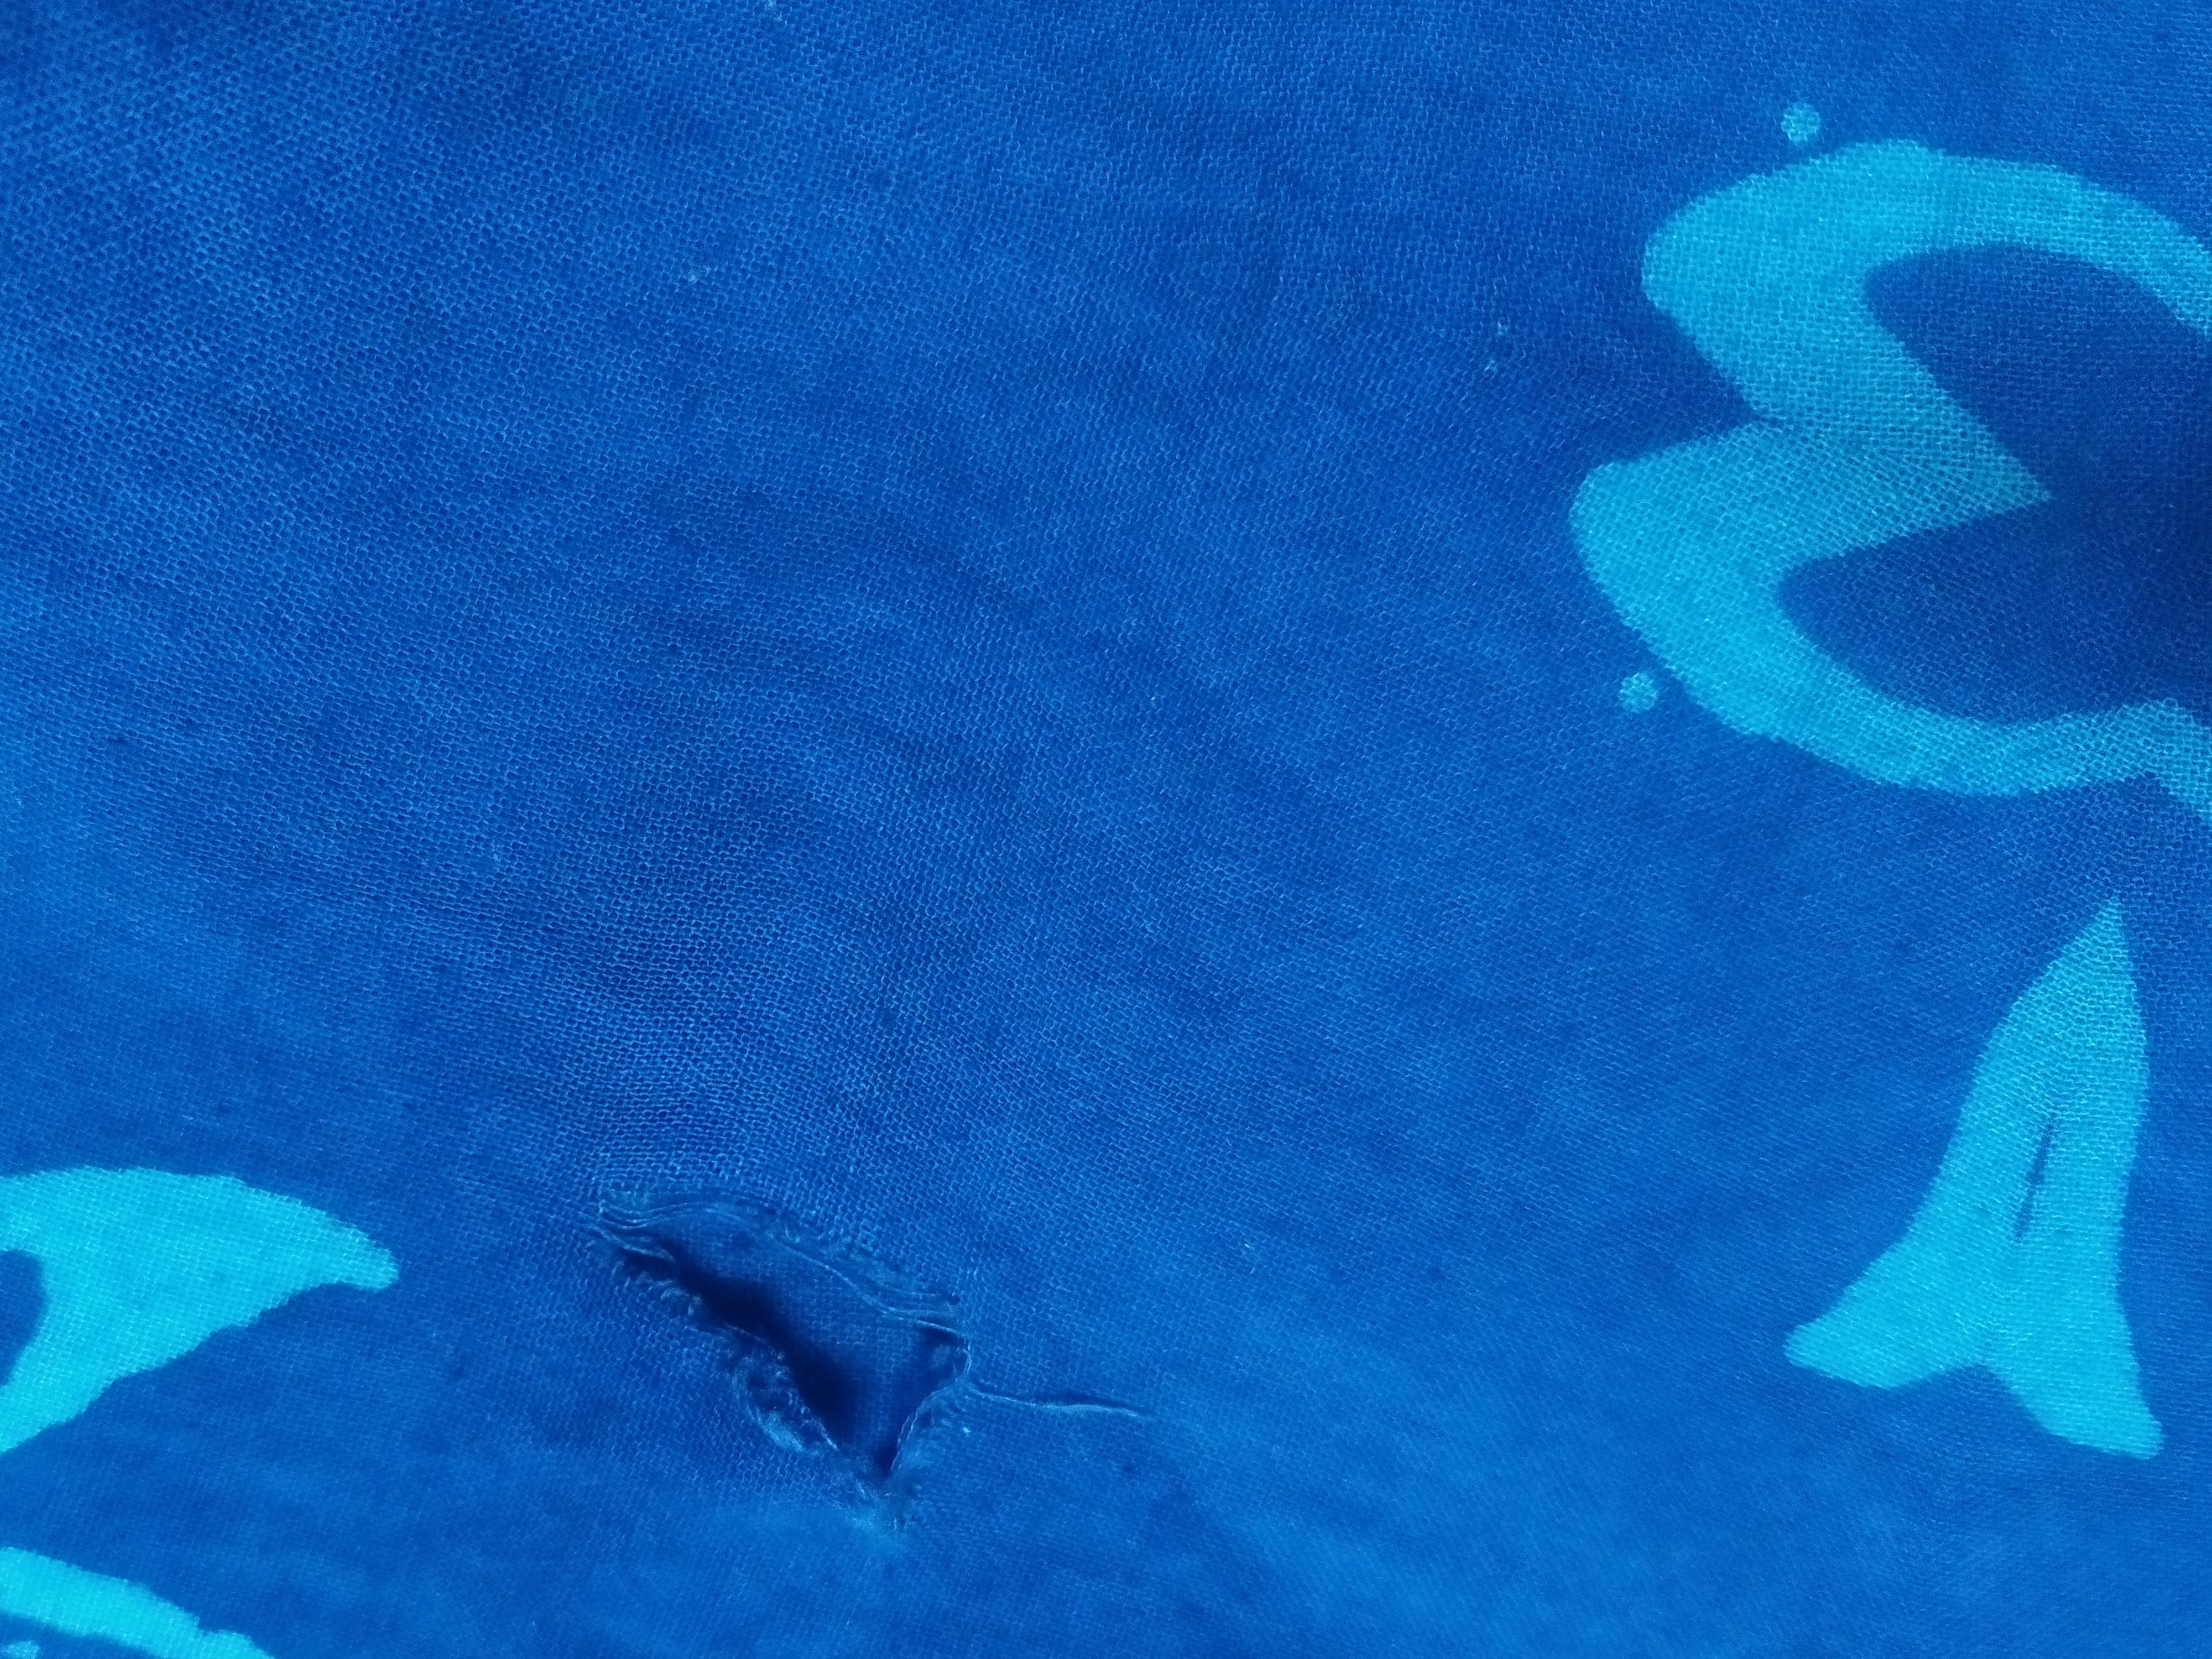hole: (583, 1162, 1010, 1525)
